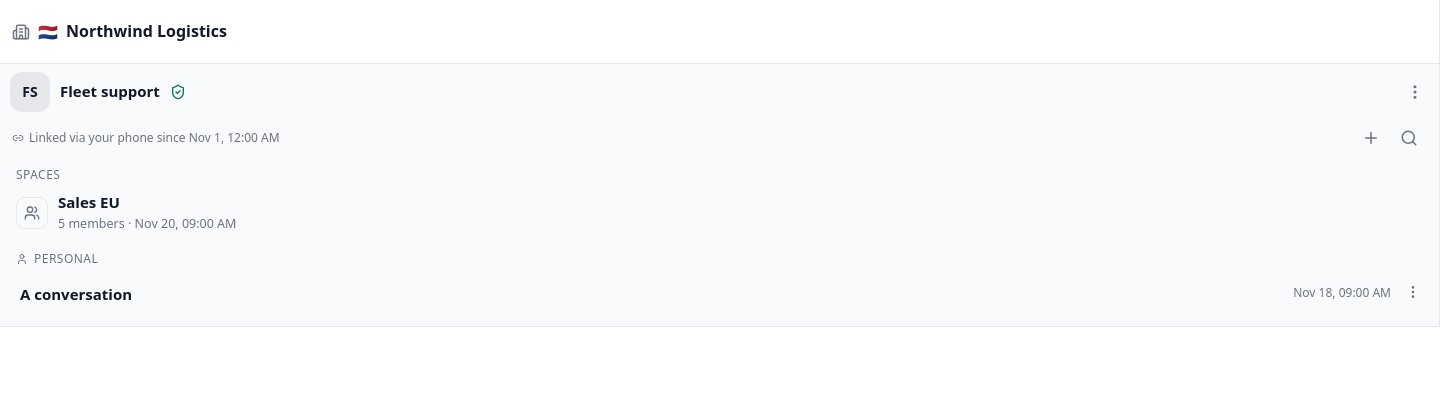
Scenario: Show Admin waits for the phone (UI-ADMIN-002) › reads "The request expired" when the phone did not answer in time
Click the 1st button named "Agent options". click: click(1415, 92)
box: [1397,74,1433,110]
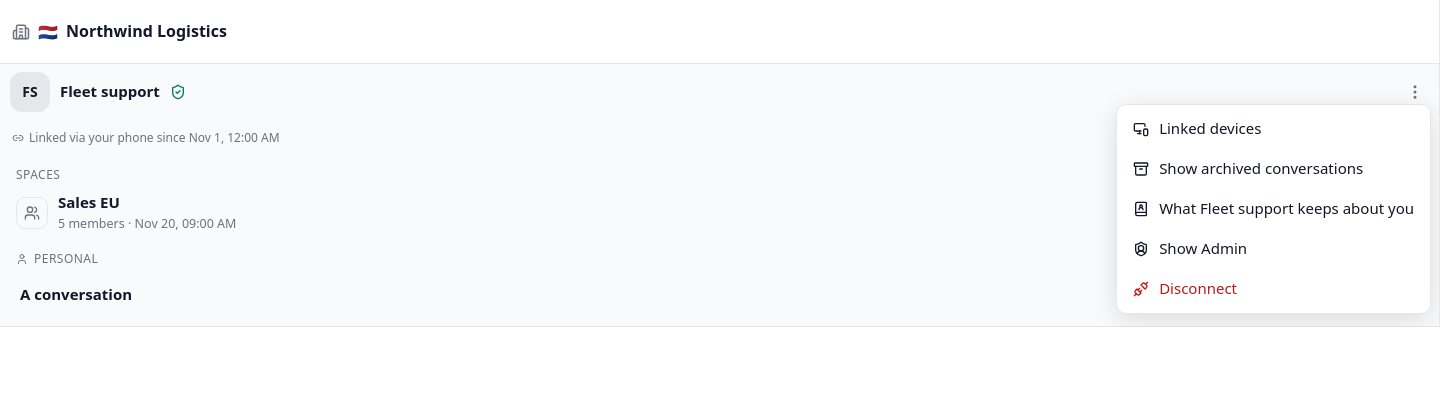
Click the menu item "Show Admin". click: click(1203, 248)
box: [1121,229,1426,269]
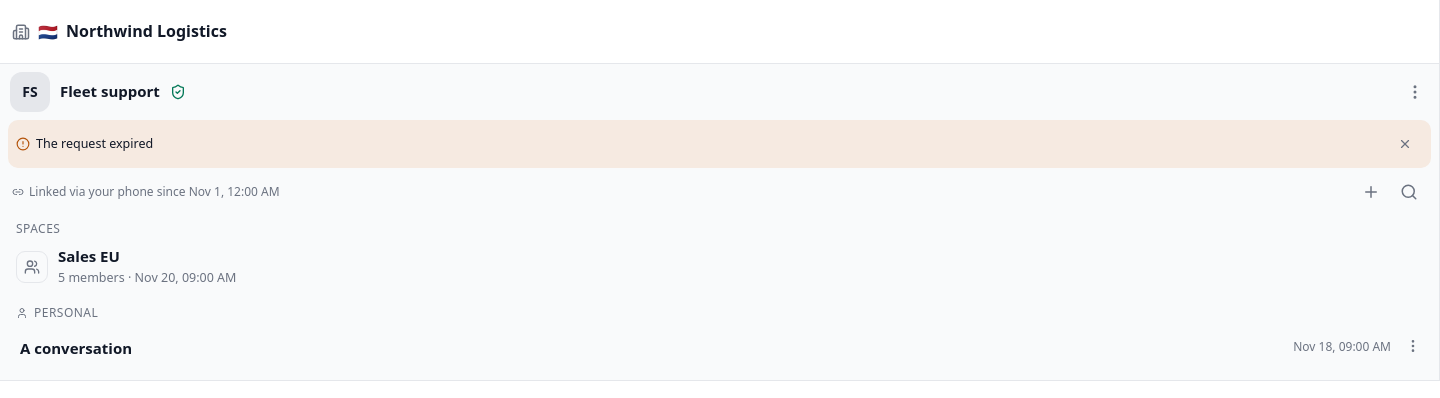
Expected: the text "The request expired" is shown, [36,135,153,152]
